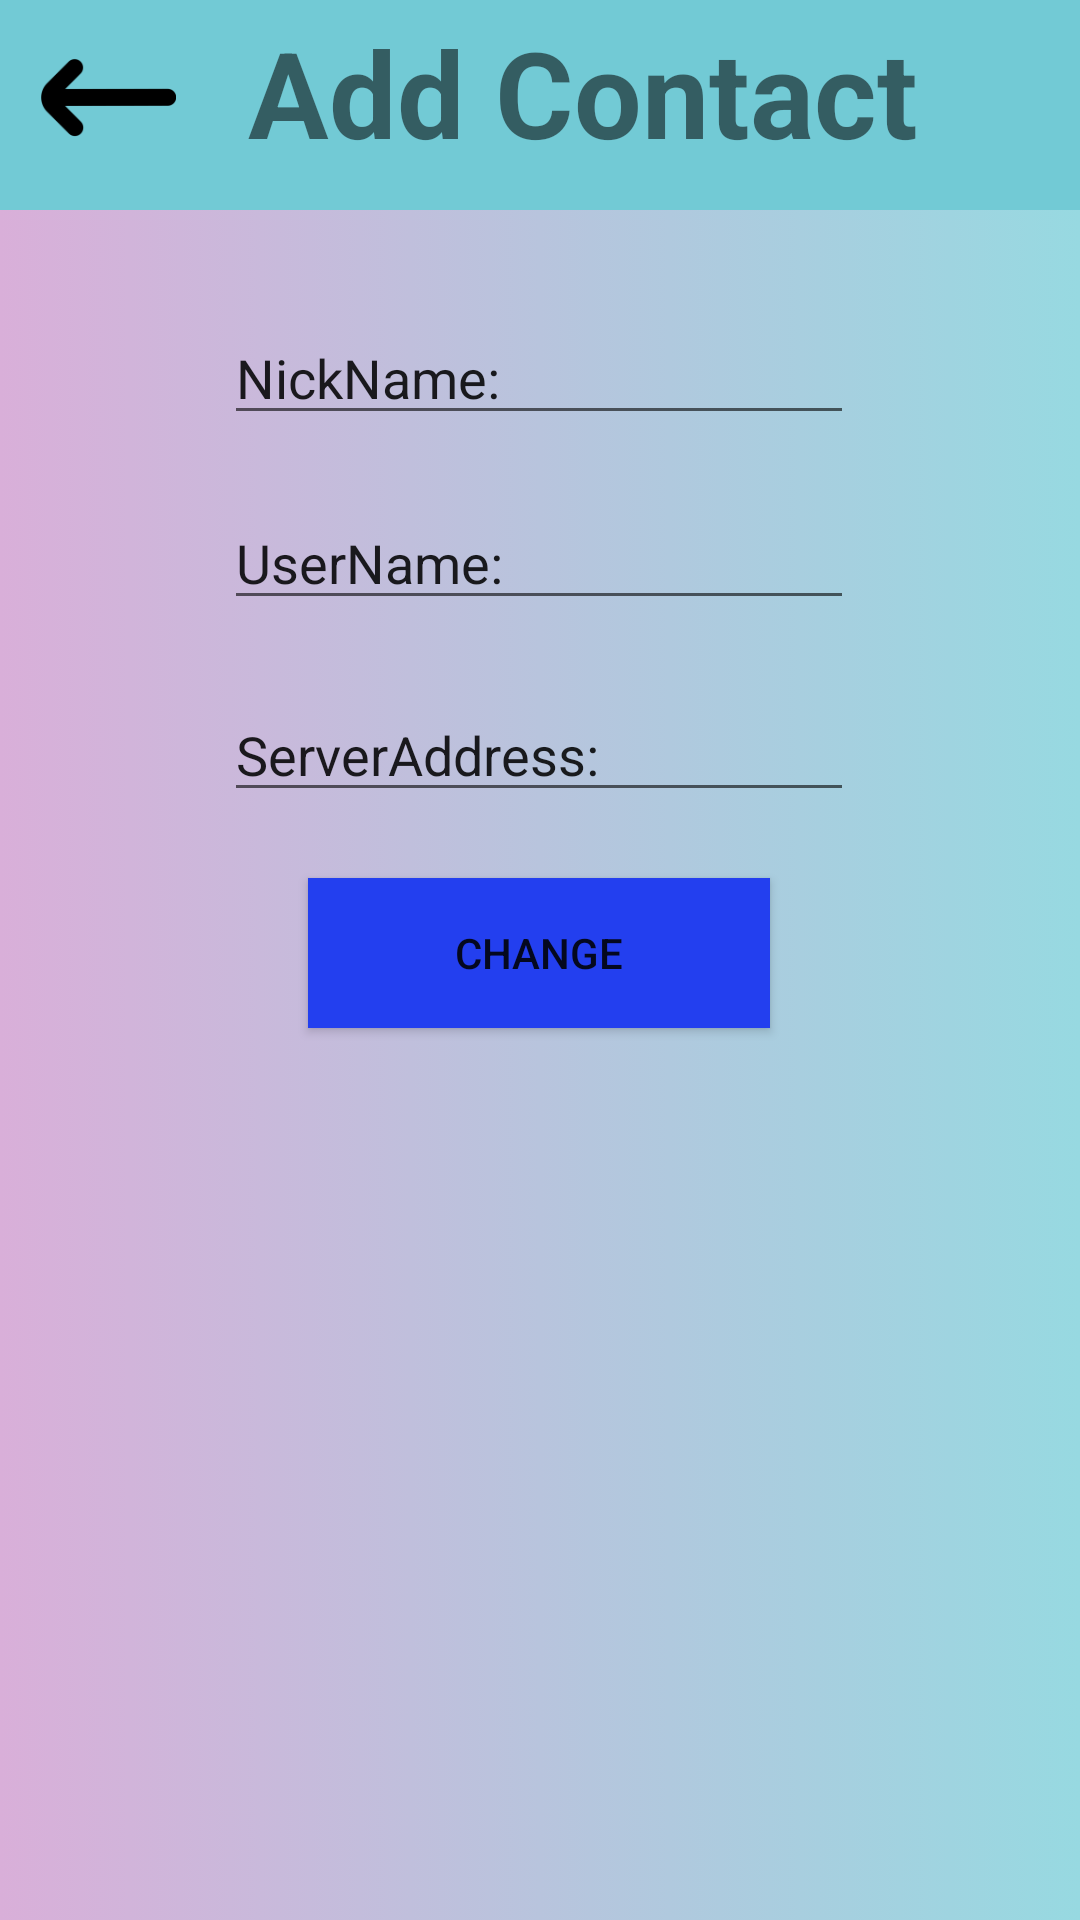

Named icons in this screenshot (1080×1920) and their bounding boxes, (x1, y1, x2, y2):
arrowleft: (41, 59, 176, 136)
